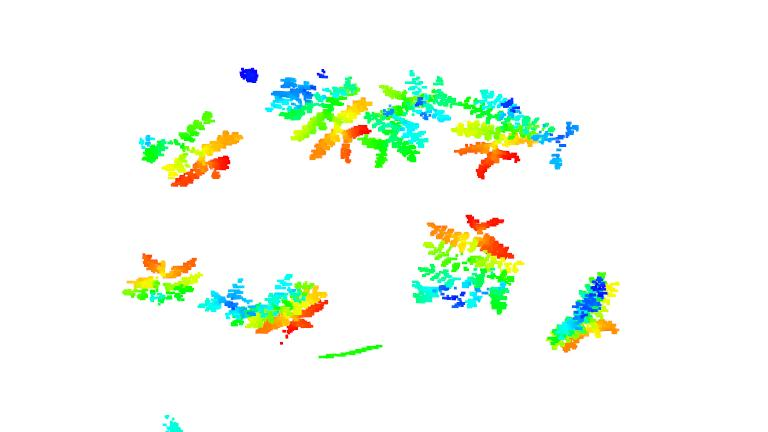chickpea: (410, 214, 525, 314), (456, 87, 580, 174), (354, 69, 458, 165), (268, 69, 370, 164), (201, 273, 333, 342), (135, 111, 244, 186), (546, 271, 622, 355), (120, 252, 203, 306)
